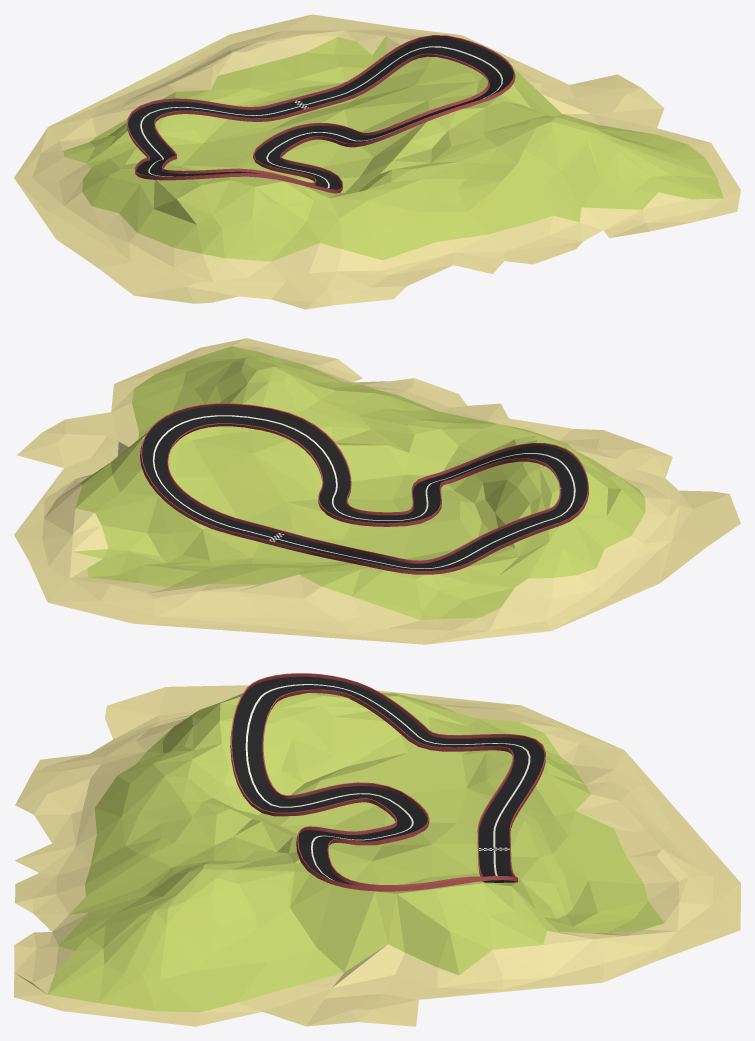
File: CoconutIsland.fbx
3 views of the same model, one above another, from view 1: azimuth 30°, elevation 25°; view 2: azimuth 150°, elevation 25°; view 3: azimuth 270°, elevation 25° (orthographic). The views are drawn at different scales.
Parts seen in each view (by area): view 1: Plane, 3D course; view 2: Plane, 3D course; view 3: Plane, 3D course.
Boxes of the visible parts, x1,y1,x2,y2 form: Plane: [14, 14, 740, 309]; 3D course: [127, 35, 515, 193]; Plane: [14, 338, 740, 644]; 3D course: [140, 403, 588, 574]; Plane: [14, 685, 740, 1026]; 3D course: [230, 673, 545, 891].
Size of what is drawn, in the model's own units: 600 by 69.51 by 543.
